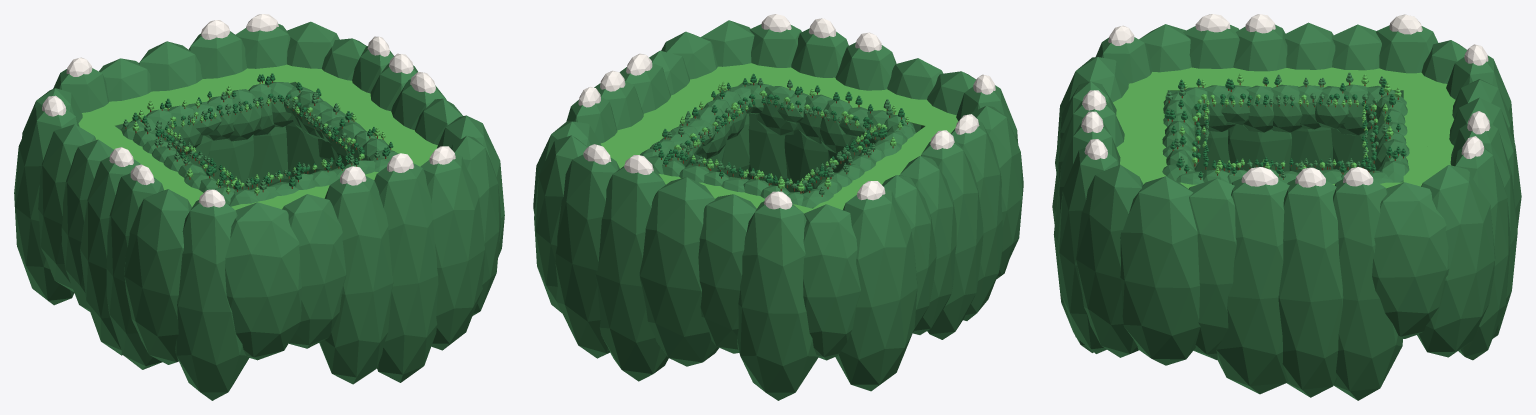
File: CatCafe_Woods_Backdrop.glb
The picture shows the model from 3 angles, left to right: view 1: azimuth 30°, elevation 25°; view 2: azimuth 150°, elevation 25°; view 3: azimuth 270°, elevation 25°; orthographic projection. The views are drawn at different scales.
Visible parts, largest first — view 1: CatCafe_Woods_Backdrop_HillsFar, CatCafe_Woods_Backdrop_Hills, CatCafe_Woods_Backdrop_Ground, CatCafe_Woods_Backdrop, CatCafe_Woods_Backdrop_Snow; view 2: CatCafe_Woods_Backdrop_HillsFar, CatCafe_Woods_Backdrop_Hills, CatCafe_Woods_Backdrop_Ground, CatCafe_Woods_Backdrop, CatCafe_Woods_Backdrop_Snow; view 3: CatCafe_Woods_Backdrop_HillsFar, CatCafe_Woods_Backdrop_Ground, CatCafe_Woods_Backdrop_Hills, CatCafe_Woods_Backdrop, CatCafe_Woods_Backdrop_Snow.
Boxes of the visible parts, x1,y1,x2,y2 form: CatCafe_Woods_Backdrop_HillsFar: [14, 21, 504, 400]; CatCafe_Woods_Backdrop_Hills: [120, 81, 398, 206]; CatCafe_Woods_Backdrop_Ground: [78, 64, 437, 210]; CatCafe_Woods_Backdrop: [123, 73, 393, 195]; CatCafe_Woods_Backdrop_Snow: [42, 14, 455, 207]; CatCafe_Woods_Backdrop_HillsFar: [533, 20, 1023, 400]; CatCafe_Woods_Backdrop_Hills: [640, 82, 915, 208]; CatCafe_Woods_Backdrop_Ground: [600, 63, 958, 213]; CatCafe_Woods_Backdrop: [653, 73, 909, 196]; CatCafe_Woods_Backdrop_Snow: [578, 14, 995, 209]; CatCafe_Woods_Backdrop_HillsFar: [1052, 22, 1521, 400]; CatCafe_Woods_Backdrop_Ground: [1113, 67, 1455, 188]; CatCafe_Woods_Backdrop_Hills: [1162, 84, 1409, 184]; CatCafe_Woods_Backdrop: [1164, 72, 1406, 179]; CatCafe_Woods_Backdrop_Snow: [1081, 14, 1490, 187].
Size of the model in its own units: 822 by 486 by 855.
1 material, 1 textured.
